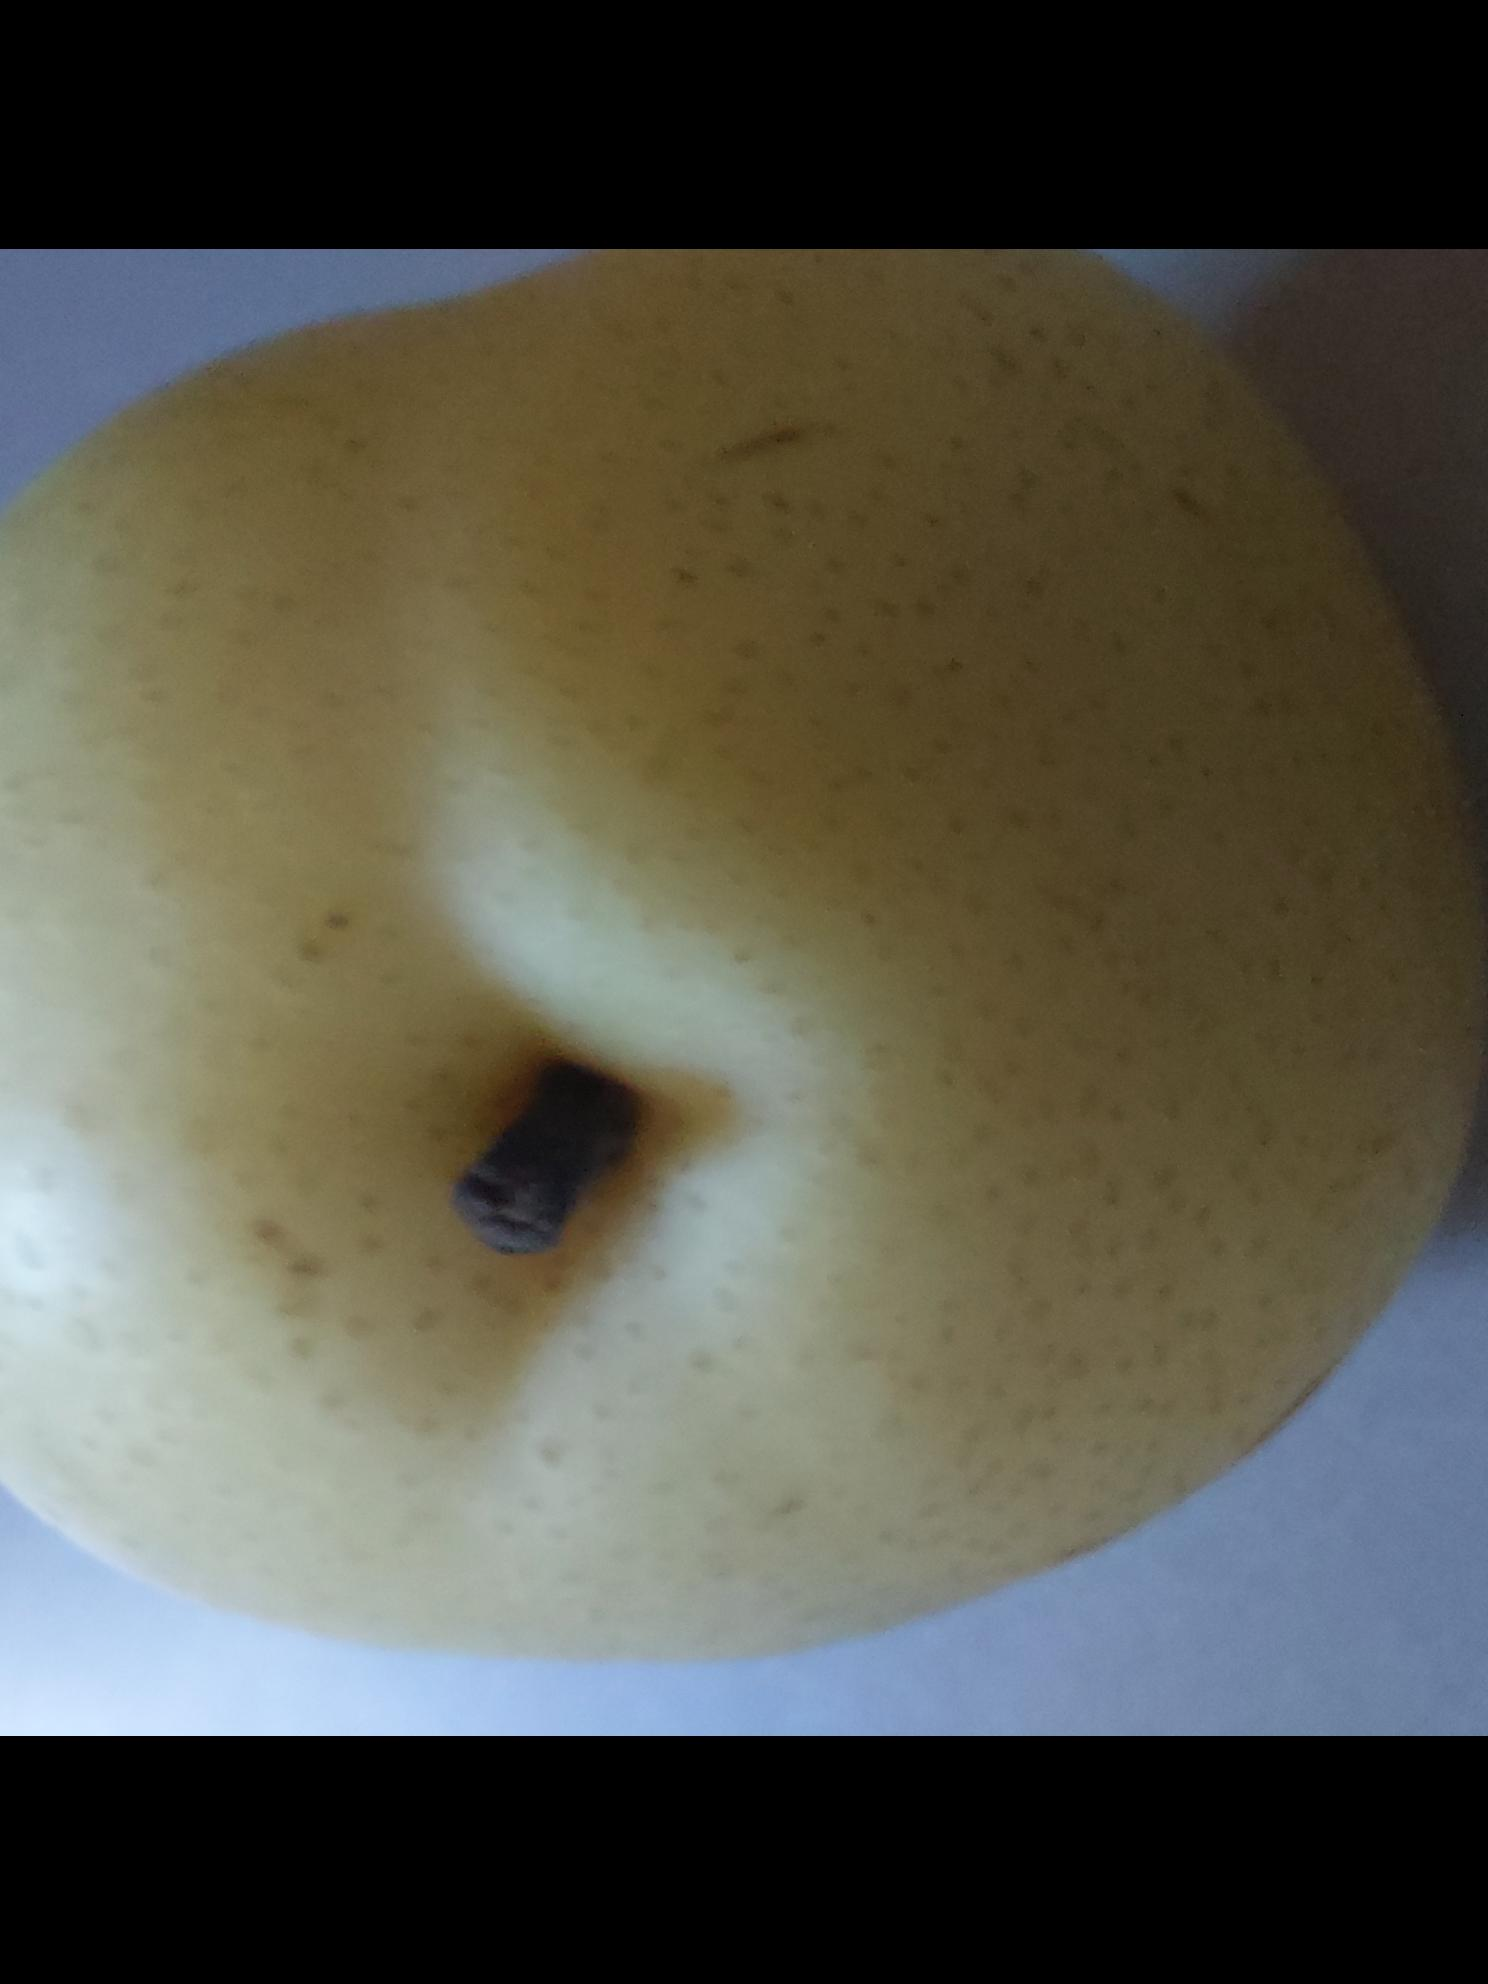Good Pear: (0, 248, 1488, 1675)
